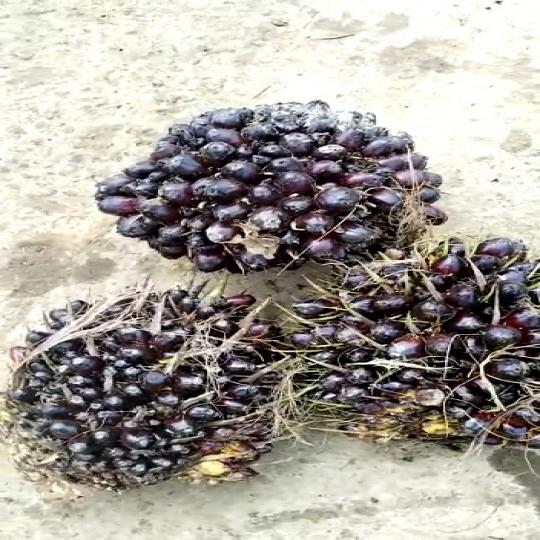mentah: (0, 294, 325, 494), (87, 100, 444, 257), (328, 239, 535, 461)
